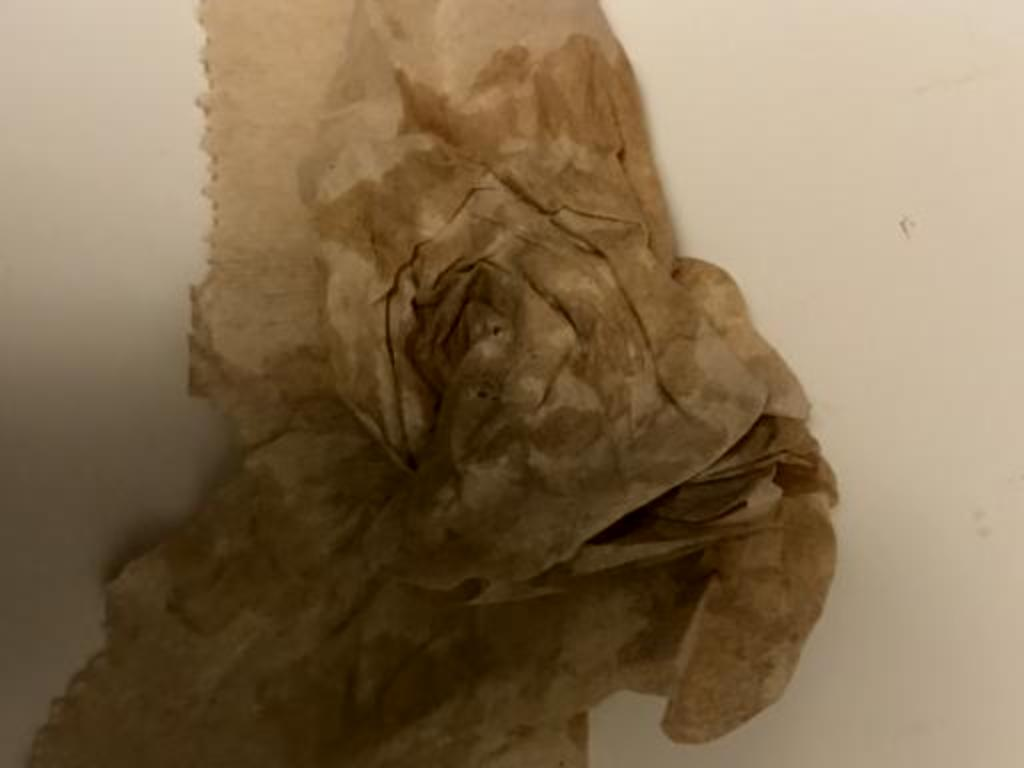garbage: (23, 6, 875, 764)
